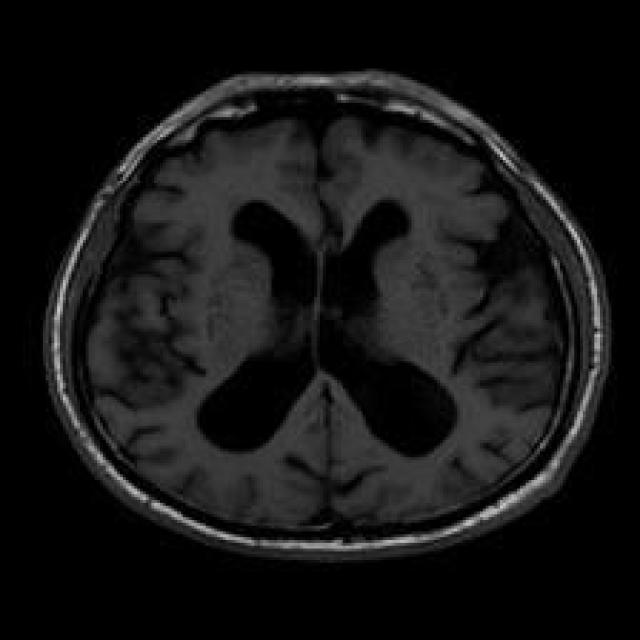no_tumor: (46, 56, 604, 566)
